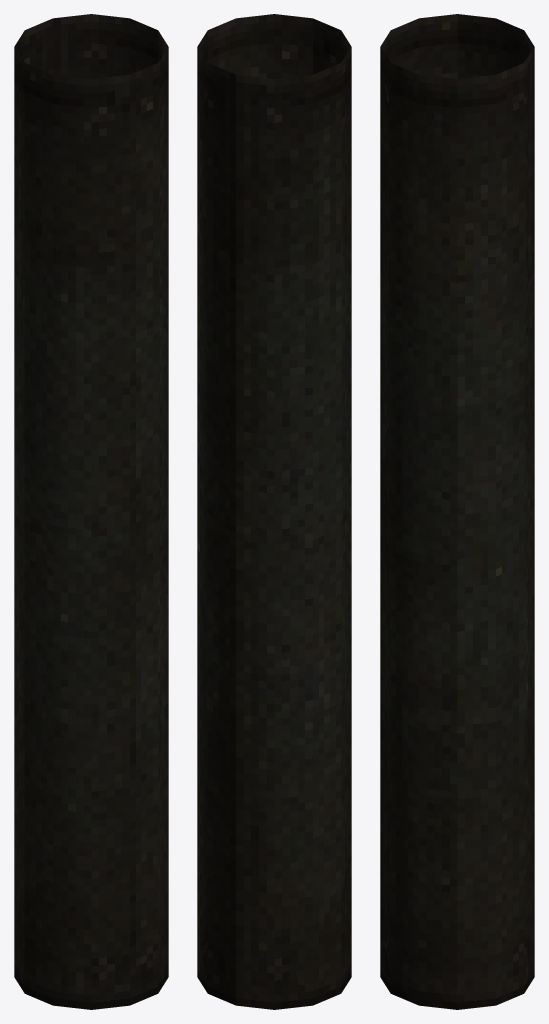
File: column_4.glb
3 renders of one model, left to right at view 1: azimuth 30°, elevation 25°; view 2: azimuth 150°, elevation 25°; view 3: azimuth 270°, elevation 25°, orthographic.
Parts seen in each view (by area): view 1: column_4; view 2: column_4; view 3: column_4.
Boxes of the visible parts, <box> form: column_4: <box>14,14,168,1009</box>; column_4: <box>197,14,351,1009</box>; column_4: <box>380,14,534,1009</box>.
Size of the model in its own units: 0.3 by 2 by 0.3.
Materials: 1 (1 with a texture image).
